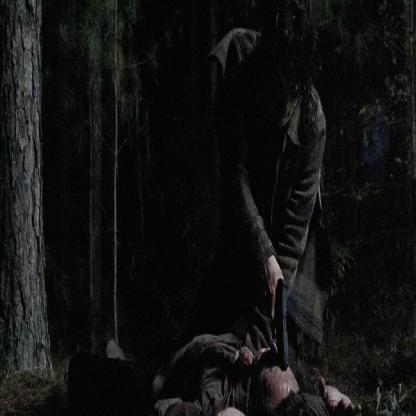Guns: (270, 274, 291, 374)
